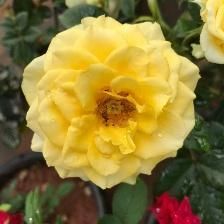rose: (26, 16, 198, 188)
